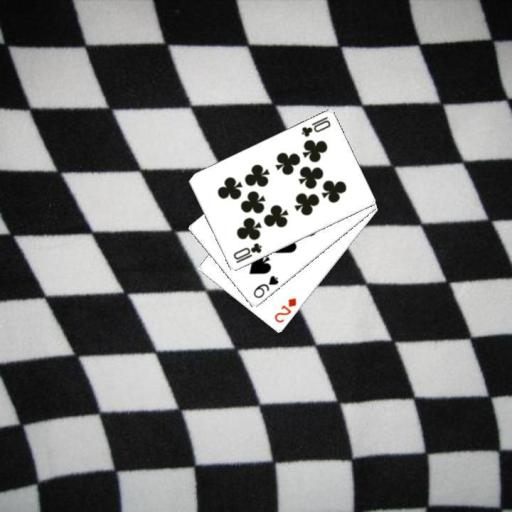10C: (298, 114, 332, 139), (230, 240, 263, 265)
2D: (271, 295, 298, 325)
9S: (250, 272, 280, 300)
